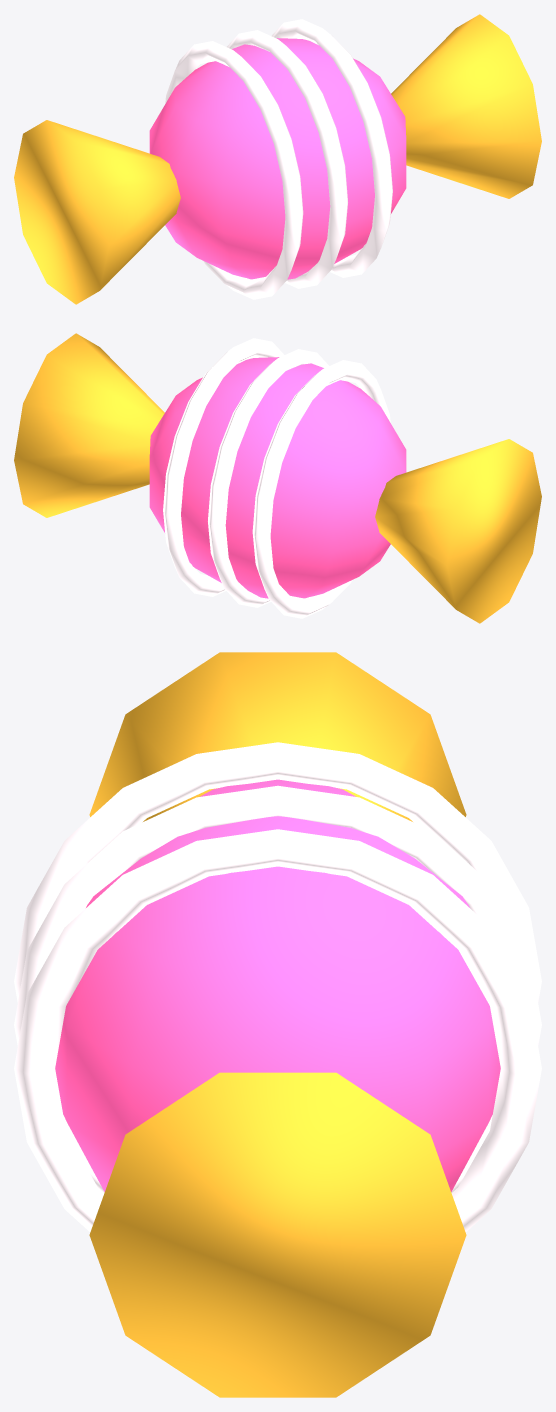
The model's file is CR-fx_candy.glb.
3 views of the same model, one above another, from view 1: azimuth 30°, elevation 25°; view 2: azimuth 150°, elevation 25°; view 3: azimuth 270°, elevation 25° (orthographic). The views are drawn at different scales.
Parts seen in each view (by area): view 1: fx_candy; view 2: fx_candy; view 3: fx_candy.
Part boxes in pixels (left/top/right/bottom): fx_candy: left=14, top=14, right=541, bottom=304; fx_candy: left=14, top=333, right=541, bottom=623; fx_candy: left=14, top=652, right=541, bottom=1397.
Size of the model in its own units: 0.58 by 0.308 by 0.308.
